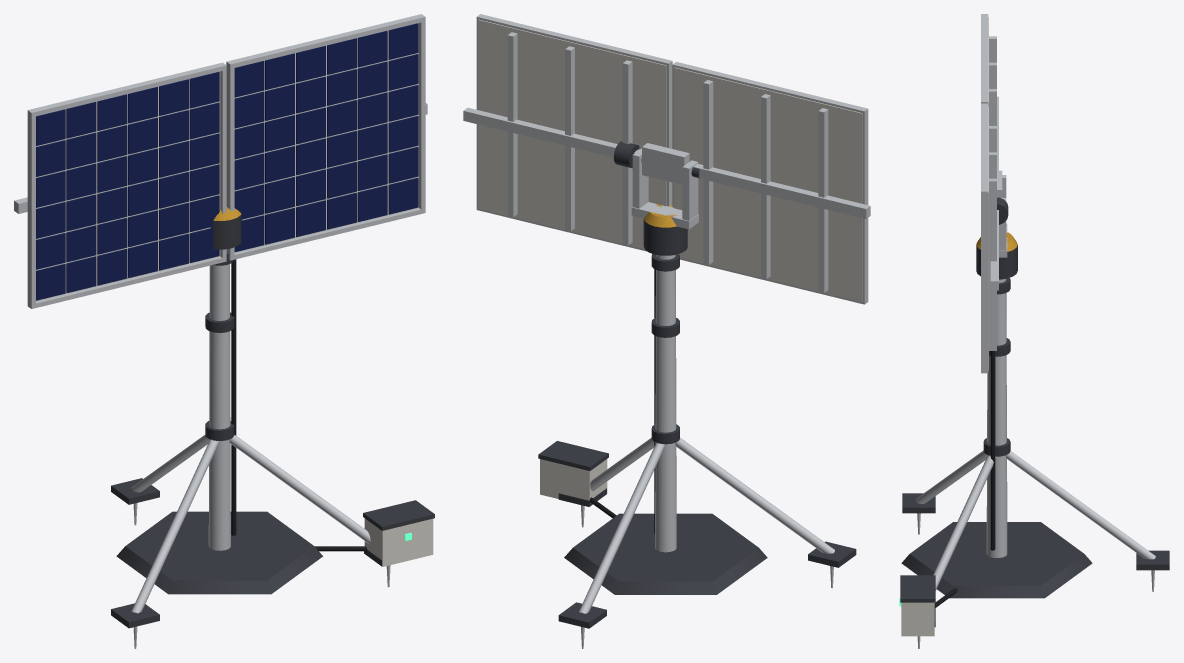
Rendered from solar_panel.glb.
3 renders of one model, left to right at view 1: azimuth 30°, elevation 25°; view 2: azimuth 150°, elevation 25°; view 3: azimuth 270°, elevation 25°, orthographic. The views are drawn at different scales.
Visible parts, largest first — view 1: WingLeft, WingRight, BasePlate, Mast, WingLeft_Backing, WingRight_Backing, JunctionBox, Leg_1, WingLeft_FrameTop, Leg_0, WingRight_FrameTop, WingLeft_FrameLeft (+11 smaller); view 2: WingLeft_Backing, WingRight_Backing, BasePlate, Mast, ArraySpar, JunctionBox, Leg_1, Leg_2, WingLeft_Rib_-0.3, WingLeft_Rib_0.3, WingRight_Rib_0.3, WingRight_Rib_-0.3 (+15 smaller); view 3: BasePlate, Mast, Leg_2, WingRight_FrameRight, Leg_0, WingRight_Rib_0.3, JunctionBox, CableMast, JunctionLid, Leg_1, WingRight_FrameTop, WingLeft_FrameTop (+4 smaller).
Part boxes in pixels (<box>): WingLeft: <box>36,72,219,300</box>; WingRight: <box>234,23,418,251</box>; BasePlate: <box>116,511,322,594</box>; Mast: <box>208,264,230,550</box>; WingLeft_Backing: <box>36,71,220,301</box>; WingRight_Backing: <box>234,23,418,252</box>; JunctionBox: <box>364,518,433,566</box>; Leg_1: <box>131,439,219,613</box>; WingLeft_FrameTop: <box>27,62,226,117</box>; Leg_0: <box>229,435,370,543</box>; WingRight_FrameTop: <box>226,14,425,68</box>; WingLeft_FrameLeft: <box>27,115,35,306</box>; WingLeft_Backing: <box>674,67,862,302</box>; WingRight_Backing: <box>478,19,666,249</box>; BasePlate: <box>564,513,767,594</box>; Mast: <box>655,255,676,552</box>; ArraySpar: <box>463,107,870,218</box>; JunctionBox: <box>540,459,607,500</box>; Leg_1: <box>675,438,834,553</box>; Leg_2: <box>579,442,664,613</box>; WingLeft_Rib_-0.3: <box>818,108,828,292</box>; WingLeft_Rib_0.3: <box>703,80,713,264</box>; WingRight_Rib_0.3: <box>507,32,517,217</box>; WingRight_Rib_-0.3: <box>622,60,632,245</box>; BasePlate: <box>901,522,1092,598</box>; Mast: <box>986,279,1007,557</box>; Leg_2: <box>1006,451,1155,559</box>; WingRight_FrameRight: <box>981,194,988,371</box>; Leg_0: <box>933,455,996,590</box>; WingRight_Rib_0.3: <box>989,178,996,350</box>; JunctionBox: <box>901,602,934,636</box>; CableMast: <box>990,351,995,550</box>; JunctionLid: <box>900,575,935,602</box>; Leg_1: <box>915,450,986,504</box>; WingRight_FrameTop: <box>981,103,988,195</box>; WingLeft_FrameTop: <box>981,14,988,103</box>.
Bounding box in the file's own units: 2.1 × 2.59 × 1.3.
